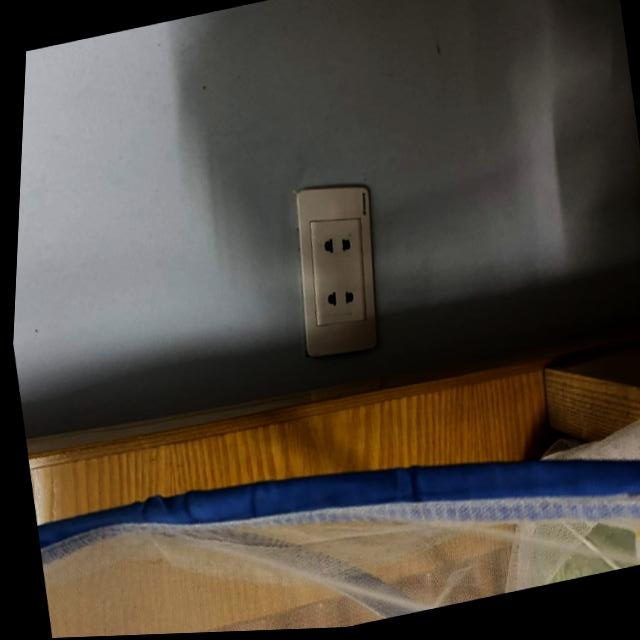outlet: (276, 175, 398, 366)
